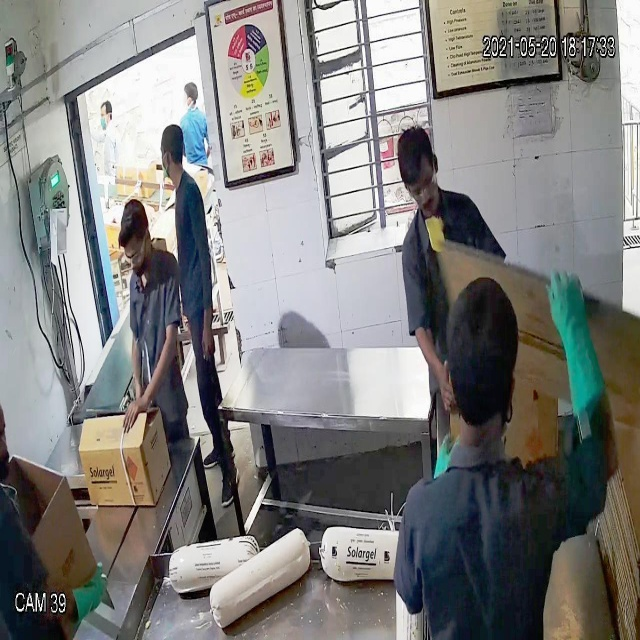Gafas: (401, 167, 444, 201), (118, 236, 148, 269)
